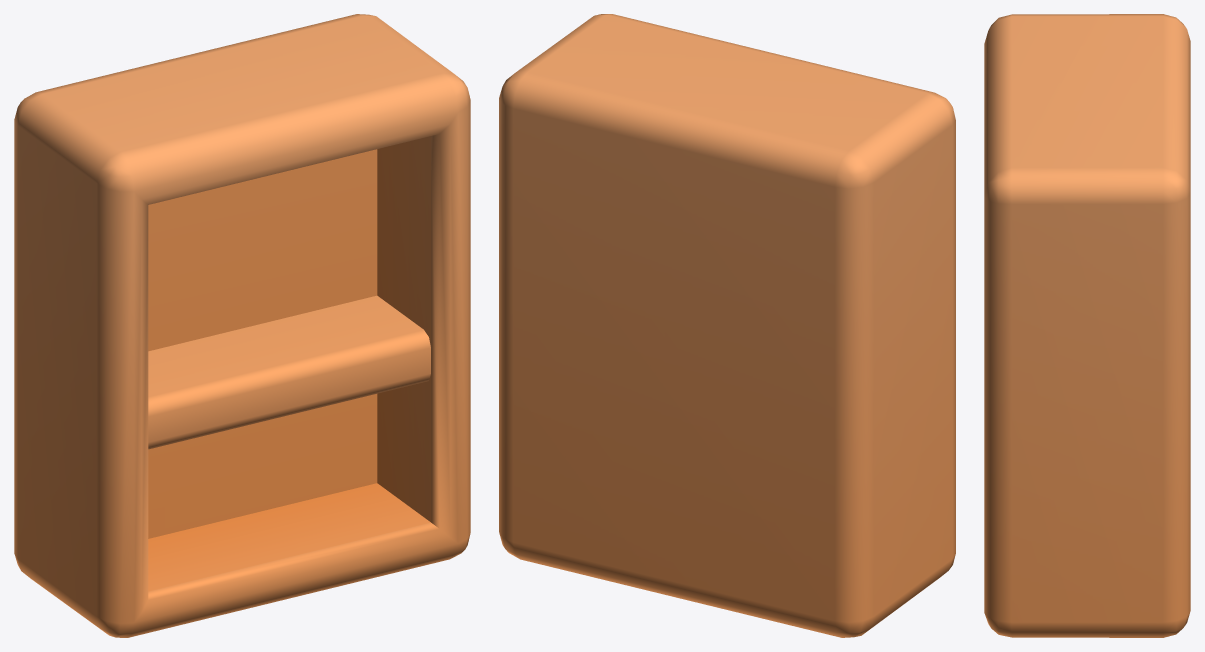
Rendered from Kitchen_Cabinet_002.fbx.
3 views of the same model, side by side, from view 1: azimuth 30°, elevation 25°; view 2: azimuth 150°, elevation 25°; view 3: azimuth 270°, elevation 25° (orthographic). The views are drawn at different scales.
Visible parts, largest first — view 1: Kitchen_Cabinet_002; view 2: Kitchen_Cabinet_002; view 3: Kitchen_Cabinet_002.
Boxes of the visible parts, bbox=[...] form: Kitchen_Cabinet_002: bbox=[14, 14, 470, 637]; Kitchen_Cabinet_002: bbox=[499, 14, 955, 637]; Kitchen_Cabinet_002: bbox=[984, 14, 1190, 637].
Bounding box in the file's own units: 63.77 × 31.88 × 79.71.
